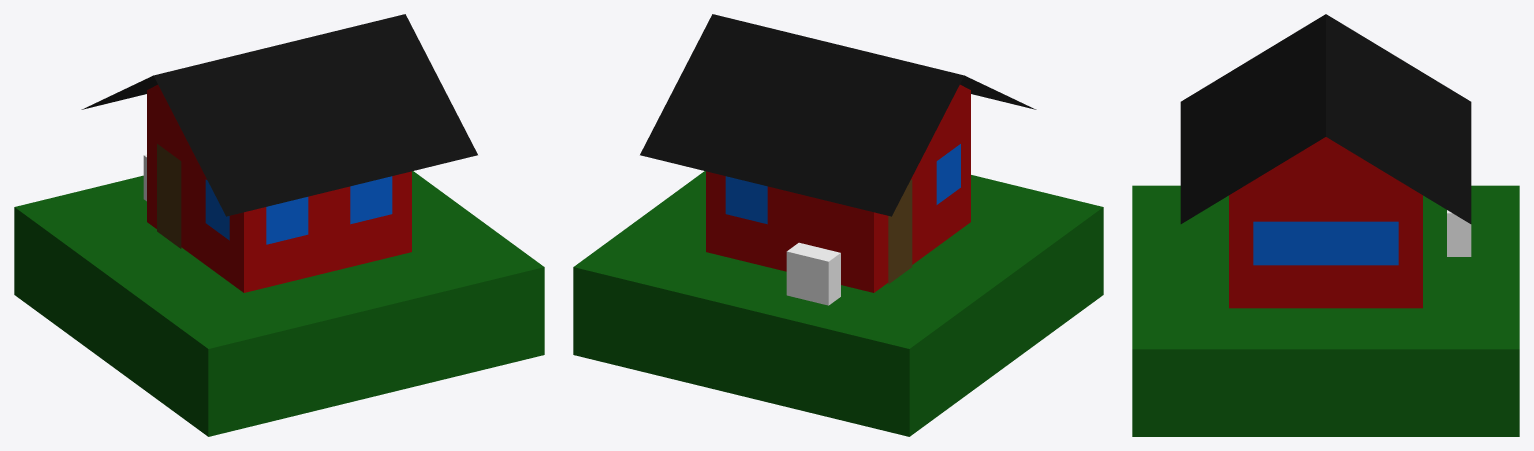
Rendered from house.obj.
The picture shows the model from 3 angles, left to right: view 1: azimuth 30°, elevation 25°; view 2: azimuth 150°, elevation 25°; view 3: azimuth 270°, elevation 25°; orthographic projection.
Parts seen in each view (by area): view 1: grass, plane, cuboid; view 2: grass, plane, cuboid, heatpump; view 3: grass, plane, cuboid, heatpump.
Boxes of the visible parts, x1,y1,x2,y2 form: grass: [14, 171, 544, 436]; plane: [81, 14, 477, 248]; cuboid: [147, 90, 411, 292]; grass: [573, 171, 1103, 436]; plane: [640, 14, 1036, 284]; cuboid: [706, 90, 970, 292]; heatpump: [786, 242, 840, 305]; grass: [1132, 185, 1519, 436]; plane: [1180, 14, 1471, 265]; cuboid: [1229, 176, 1422, 308]; heatpump: [1447, 210, 1471, 256].
Size of the model in its own units: 1 by 0.7969 by 1.
6 materials, 6 textured.
